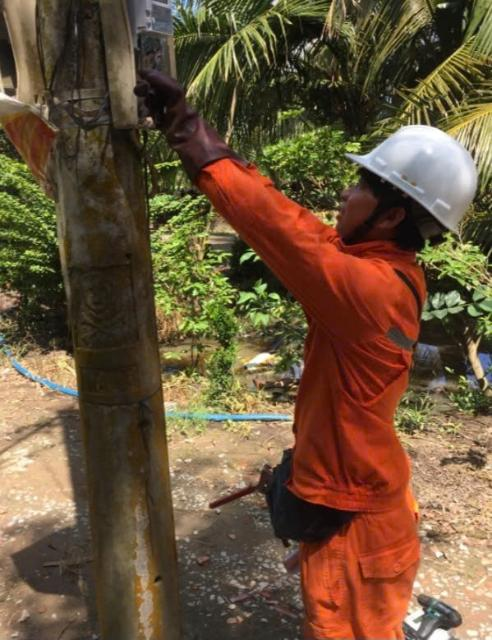gloves: (135, 61, 251, 187)
helmet: (349, 110, 473, 237)
